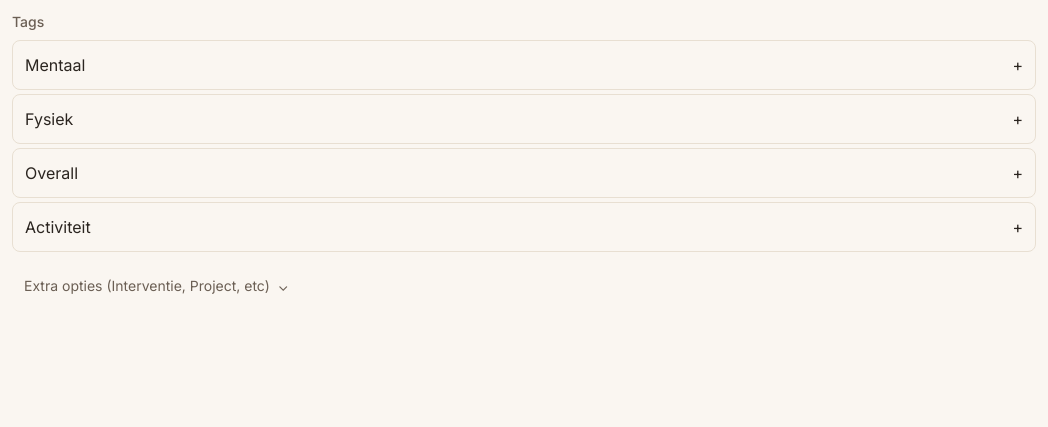
<TagCategoryList /> › recency sort within category › a newly created tag appears at the FRONT of its category (synthetic now-recency)
The width and height of the screenshot is (1048, 427).
Click the button "mentaal +": (55, 65) [12, 40, 1036, 90]
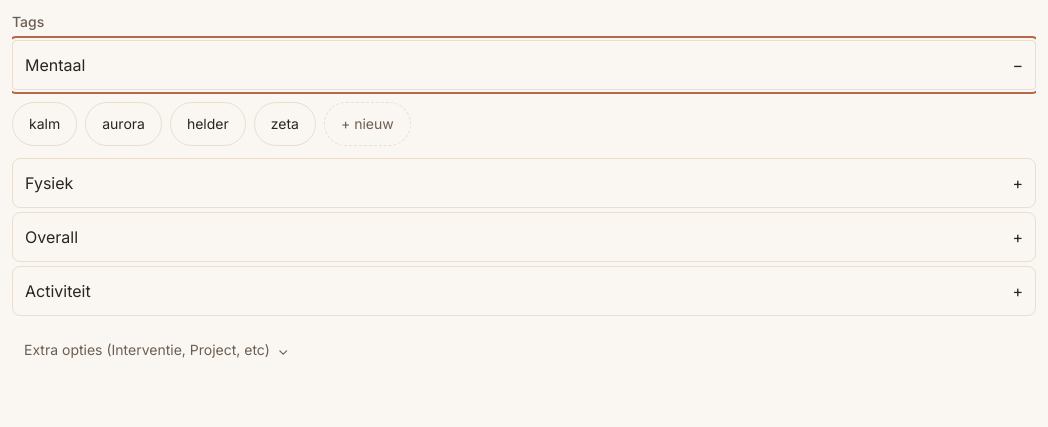
Click the button with aria-label "voeg tag toe aan mentaal": (367, 124) [324, 102, 411, 146]
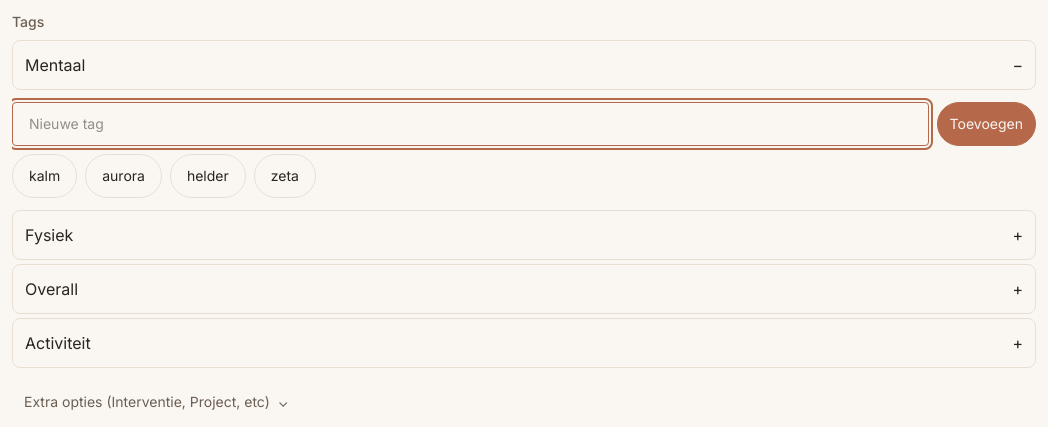
In the field labelled "Nieuwe tag": (470, 124) [12, 102, 929, 146], type "pacing"
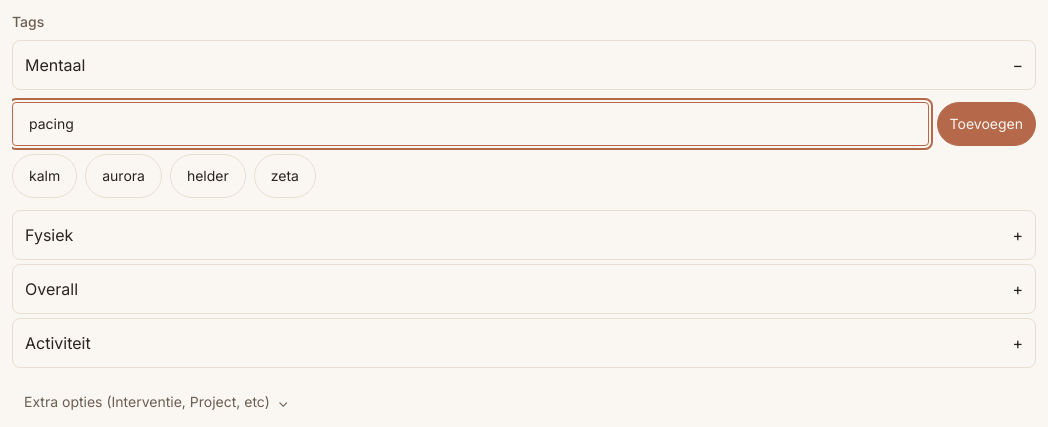
Press Enter
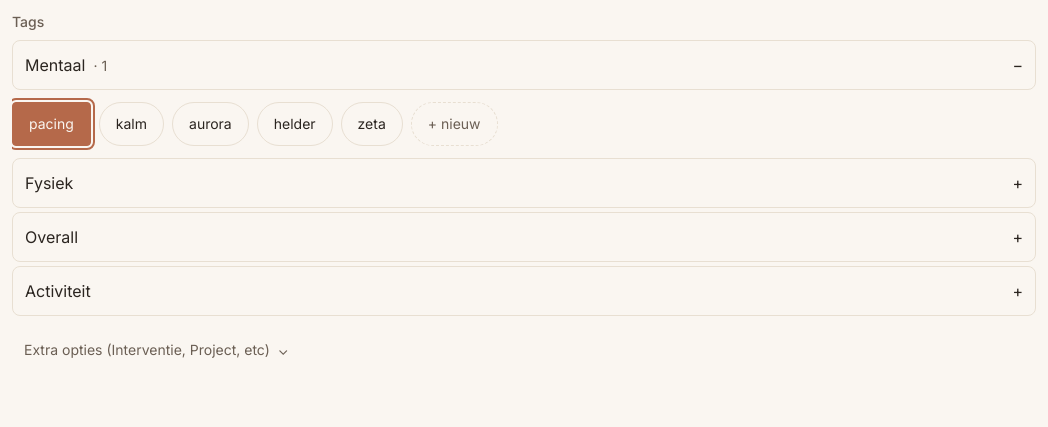
Expected: the button "pacing" is shown, [12, 102, 91, 146]
